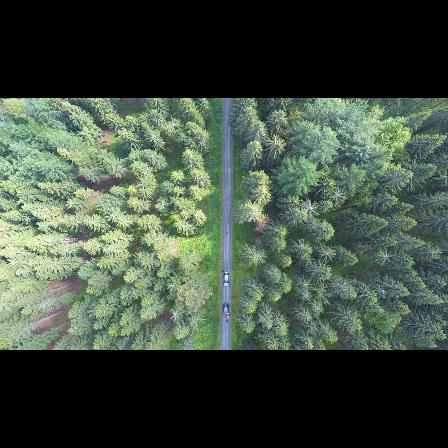Sick: (314, 244, 338, 262), (302, 196, 319, 218), (294, 274, 315, 291), (377, 248, 395, 266), (328, 186, 347, 203), (253, 246, 269, 266), (169, 307, 184, 325), (310, 300, 326, 315), (105, 208, 118, 224), (299, 290, 312, 301)
